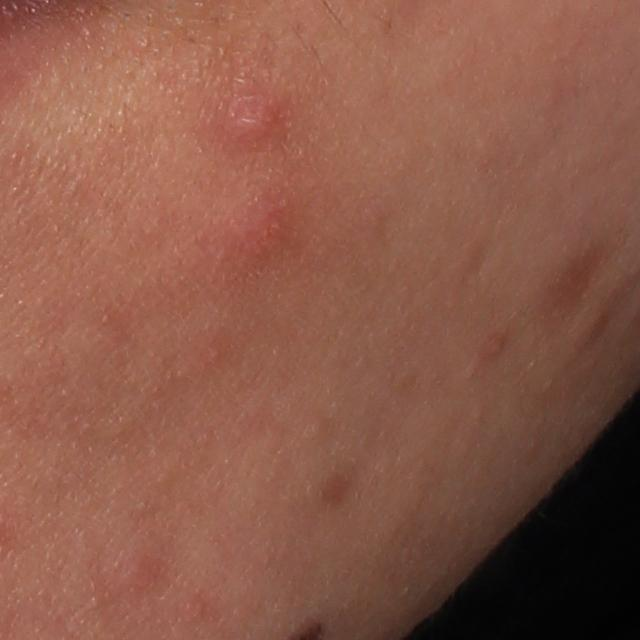papule: (193, 184, 306, 279), (209, 79, 296, 152), (474, 330, 512, 364)
